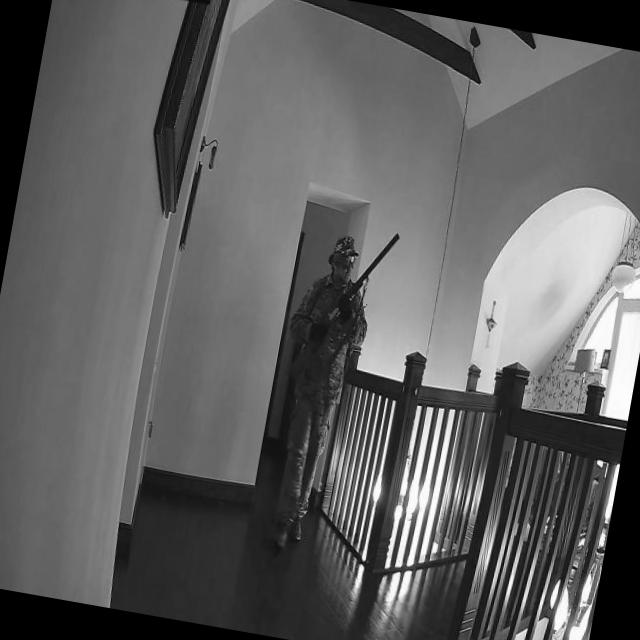gun: (296, 216, 402, 365)
person with a gun: (253, 214, 403, 564)
